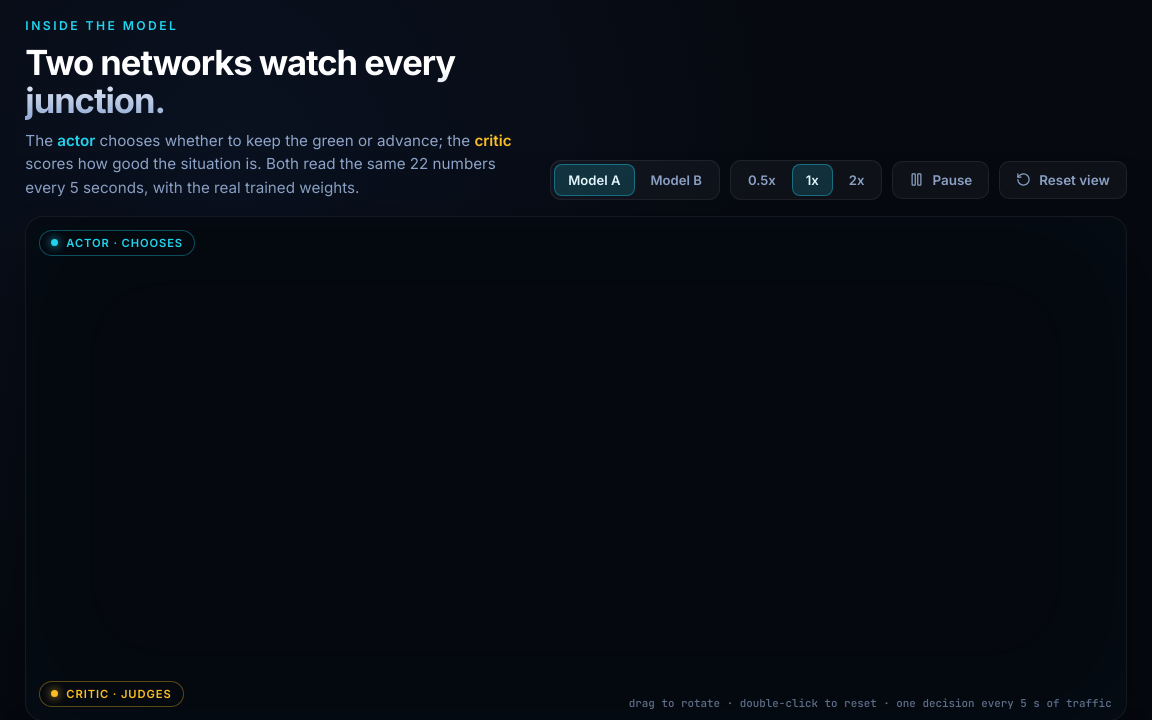
Test: BrainPage › switches to Model B by controller id
The image size is (1152, 720).
Click the button "Model B". click: (676, 180)
box: [636,164,716,196]
(page scrolled)
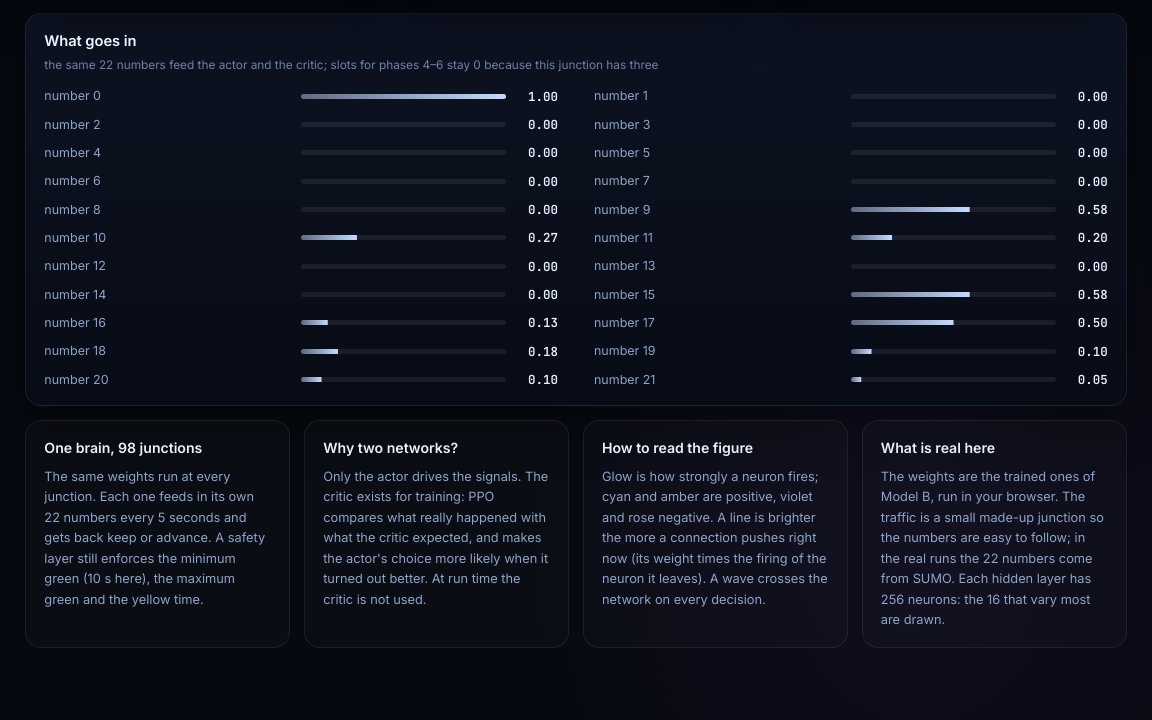
Result: the text "trained ones of Model B" is shown at [881,467,1108,631]
